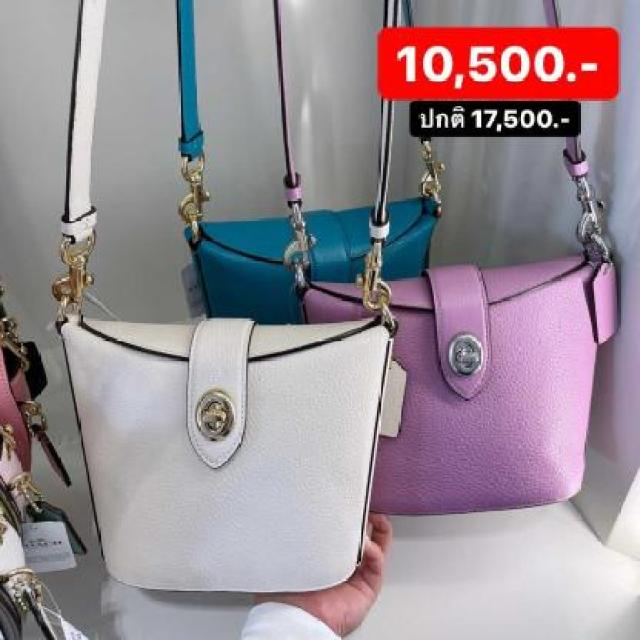Bag: (28, 242, 409, 607), (278, 250, 632, 527)
